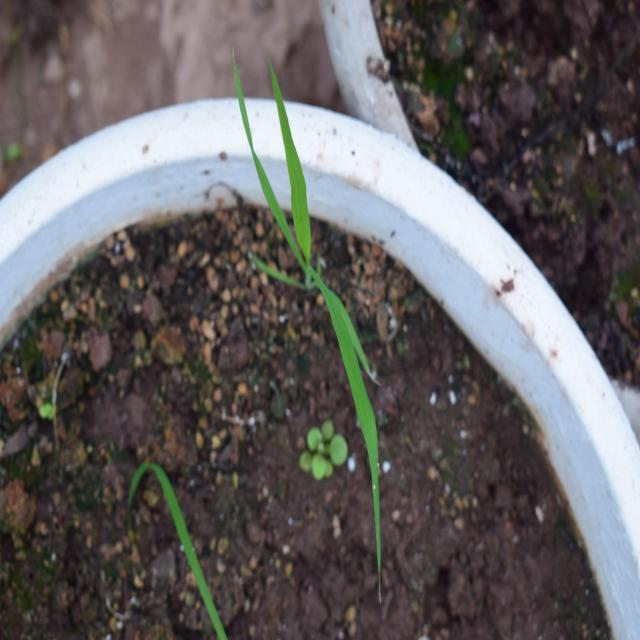barnyard_grass: (201, 45, 426, 561)
